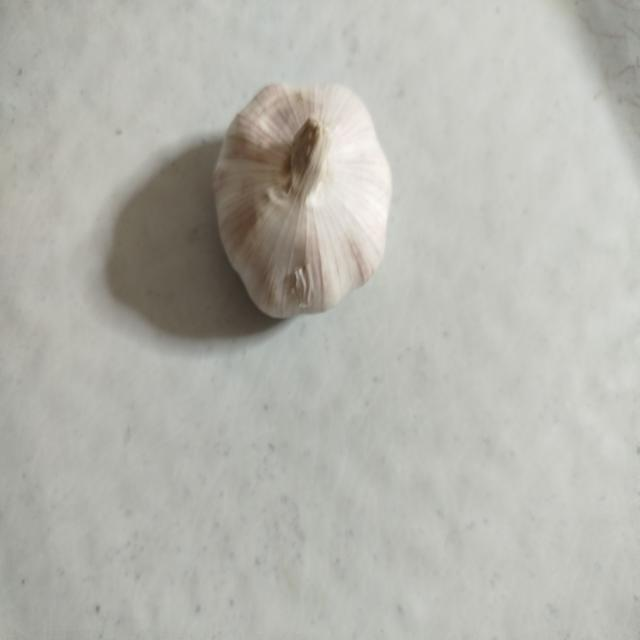garlic: (211, 81, 392, 320)
